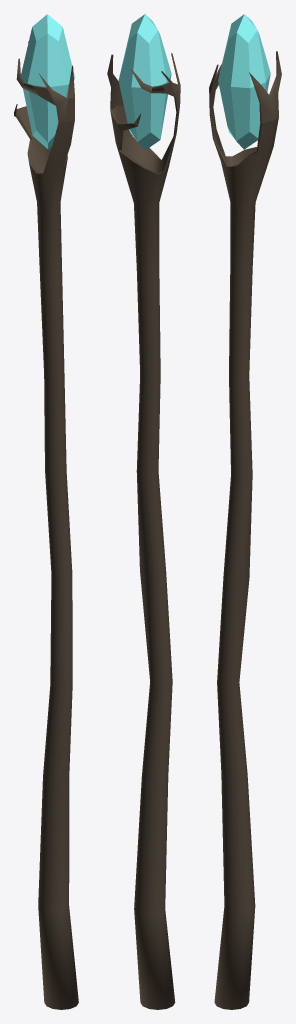
Rendered from Magic_Wand_01.fbx.
The picture shows the model from 3 angles, left to right: view 1: azimuth 90°, elevation 25°; view 2: azimuth 150°, elevation 25°; view 3: azimuth 330°, elevation 25°; orthographic projection.
Visible parts, largest first — view 1: Magic_Wand; view 2: Magic_Wand; view 3: Magic_Wand.
Boxes of the visible parts, <box> form: Magic_Wand: <box>14,14,78,1009</box>; Magic_Wand: <box>107,14,180,1009</box>; Magic_Wand: <box>209,14,281,1009</box>.
Size of the model in its own units: 7.65 by 124 by 7.39.
